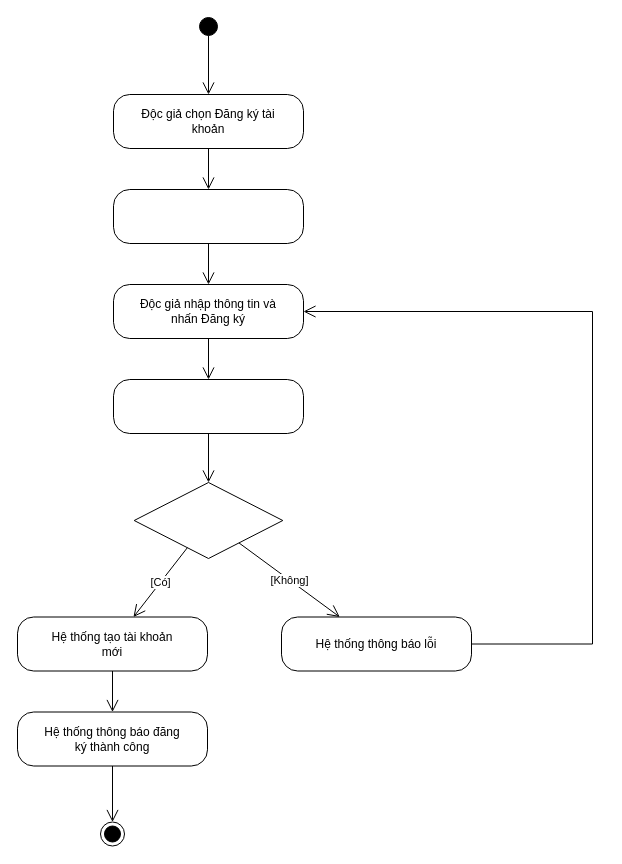
Some shapes in this 622 by 864 pixel diagram are drawn without their labels. The shapes that lost their labels are listed below. From the top down, each one's box as (x1, y1, x2, y2) in pixels, then its label:
(112, 188, 304, 244): Hệ thống hiển thị form đăng ký
(112, 378, 304, 434): Hệ thống kiểm tra thông tin
(133, 482, 283, 558): Thông tin hợp lệ và tên đăng nhập chưa có?
